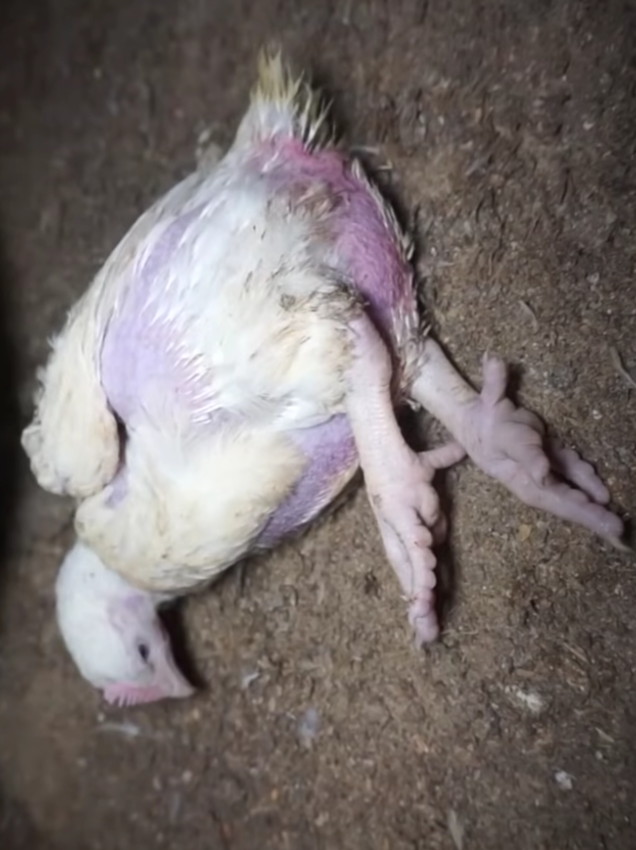Unhealthy: (15, 45, 622, 723)
